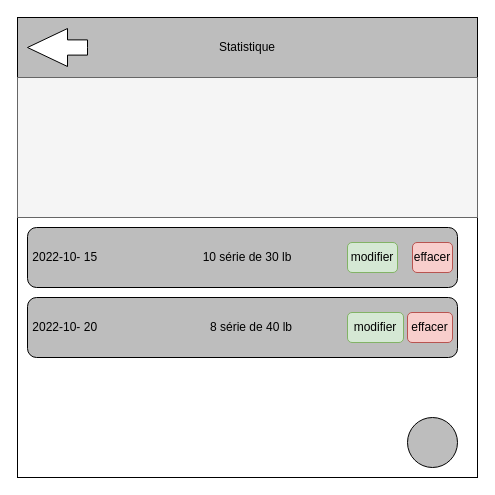
This 495x495 diagram has some shape labels left out. The shapes that lost their labels are listed below. From the top down, each one's centre as x and y in pixels, then its label:
At pixel 57 47: "Retour".
At pixel 247 147: "Image exercice".
At pixel 432 442: "Ajouter".
